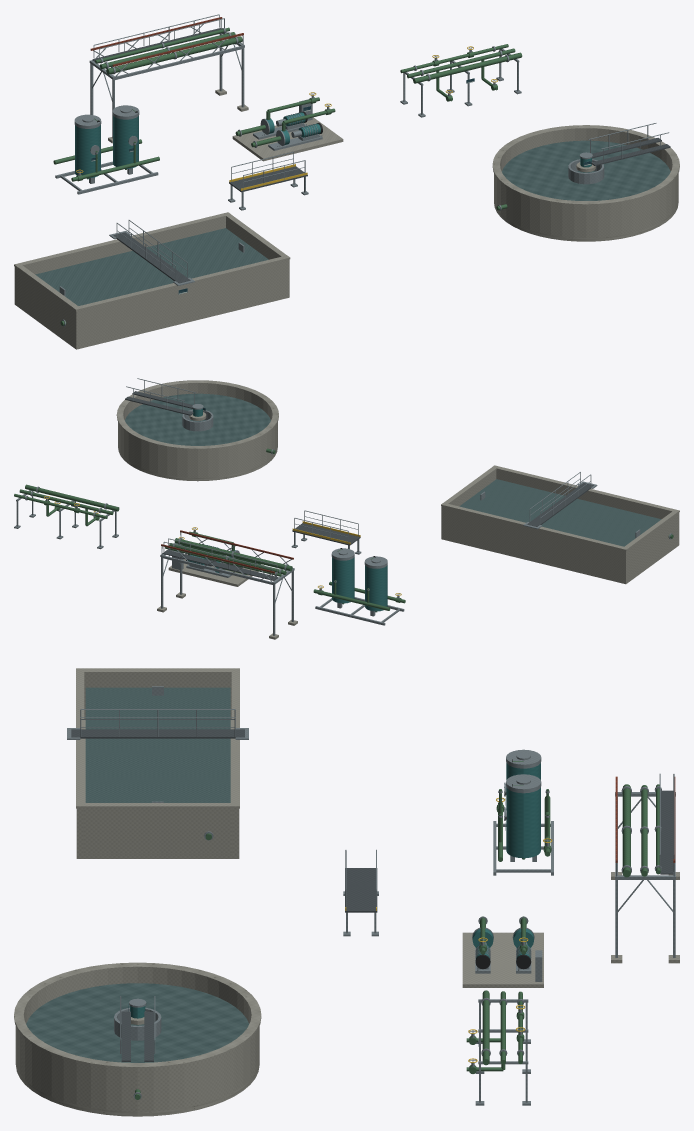
The model's file is PZ_CFW_00_WaterTreatmentPlant_ASSEMBLED_REFERENCE.glb.
The picture shows the model from 3 angles, top to bottom: view 1: azimuth 30°, elevation 25°; view 2: azimuth 150°, elevation 25°; view 3: azimuth 270°, elevation 25°; orthographic projection. The views are drawn at different scales.
Parts seen in each view (by area): view 1: CLARIFIER_ROUND_OpenTop_RingWall, BASIN_RECT_BasinWall_Front, BASIN_RECT_OPTIONAL_Static_Settling_Water, CLARIFIER_ROUND_OPTIONAL_Static_ClarifiedWater, CLARIFIER_ROUND_RimCoping, BASIN_RECT_BasinWall_Rear, BASIN_RECT_BasinWall_Left, PUMPS_DUPLEX_ConcreteMountingSlab, BASIN_RECT_FoundationSlab_16x8, FILTERS_DUAL_Filter1_PressureVesselShell, FILTERS_DUAL_Filter2_PressureVesselShell, BASIN_RECT_Coping_Front (+11 smaller); view 2: CLARIFIER_ROUND_OpenTop_RingWall, BASIN_RECT_BasinWall_Rear, BASIN_RECT_OPTIONAL_Static_Settling_Water, CLARIFIER_ROUND_OPTIONAL_Static_ClarifiedWater, CLARIFIER_ROUND_RimCoping, BASIN_RECT_BasinWall_Front, BASIN_RECT_BasinWall_Left, FILTERS_DUAL_Filter2_PressureVesselShell, FILTERS_DUAL_Filter1_PressureVesselShell, BASIN_RECT_FoundationSlab_16x8, BASIN_RECT_Coping_Rear, BASIN_RECT_Coping_Front (+10 smaller); view 3: BASIN_RECT_OPTIONAL_Static_Settling_Water, CLARIFIER_ROUND_OpenTop_RingWall, CLARIFIER_ROUND_OPTIONAL_Static_ClarifiedWater, BASIN_RECT_BasinWall_Right, CLARIFIER_ROUND_RimCoping, PUMPS_DUPLEX_ConcreteMountingSlab, FILTERS_DUAL_Filter2_PressureVesselShell, BASIN_RECT_BasinWall_Left, BASIN_RECT_Service_Crosswalk_Grating, SERVICE_WALK_WalkwayGrating, CLARIFIER_ROUND_RoundFoundation, PIPE_BRIDGE_ServiceCatwalk_Grating (+6 smaller).
Boxes of the visible parts, x1,y1,x2,y2 form: CLARIFIER_ROUND_OpenTop_RingWall: (494,130,678,237); BASIN_RECT_BasinWall_Front: (73,259,289,345); BASIN_RECT_OPTIONAL_Static_Settling_Water: (35,228,268,305); CLARIFIER_ROUND_OPTIONAL_Static_ClarifiedWater: (502,140,670,200); CLARIFIER_ROUND_RimCoping: (492,125,679,205); BASIN_RECT_BasinWall_Rear: (14,217,225,302); BASIN_RECT_BasinWall_Left: (17,268,73,343); PUMPS_DUPLEX_ConcreteMountingSlab: (232,117,343,161); BASIN_RECT_FoundationSlab_16x8: (14,294,289,349); FILTERS_DUAL_Filter1_PressureVesselShell: (75,125,100,178); FILTERS_DUAL_Filter2_PressureVesselShell: (113,115,138,168); BASIN_RECT_Coping_Front: (73,255,290,311); CLARIFIER_ROUND_OpenTop_RingWall: (118,384,277,477); BASIN_RECT_BasinWall_Rear: (441,506,628,580); BASIN_RECT_OPTIONAL_Static_Settling_Water: (459,479,660,546); CLARIFIER_ROUND_OPTIONAL_Static_ClarifiedWater: (125,393,270,445); CLARIFIER_ROUND_RimCoping: (116,380,278,450); BASIN_RECT_BasinWall_Front: (496,470,679,543); BASIN_RECT_BasinWall_Left: (628,514,676,579); FILTERS_DUAL_Filter2_PressureVesselShell: (332,557,354,603); FILTERS_DUAL_Filter1_PressureVesselShell: (365,565,387,611); BASIN_RECT_FoundationSlab_16x8: (441,536,679,584); BASIN_RECT_Coping_Rear: (441,502,628,551); BASIN_RECT_Coping_Front: (492,465,679,513); BASIN_RECT_OPTIONAL_Static_Settling_Water: (85,687,230,802); CLARIFIER_ROUND_OpenTop_RingWall: (15,969,259,1111); CLARIFIER_ROUND_OPTIONAL_Static_ClarifiedWater: (26,983,248,1062); BASIN_RECT_BasinWall_Right: (83,808,232,854); CLARIFIER_ROUND_RimCoping: (14,962,261,1069); PUMPS_DUPLEX_ConcreteMountingSlab: (462,932,543,987); FILTERS_DUAL_Filter2_PressureVesselShell: (506,787,540,858); BASIN_RECT_BasinWall_Left: (84,674,231,718); BASIN_RECT_Service_Crosswalk_Grating: (71,729,244,738); SERVICE_WALK_WalkwayGrating: (345,868,377,912); CLARIFIER_ROUND_RoundFoundation: (15,1060,259,1116); PIPE_BRIDGE_ServiceCatwalk_Grating: (660,790,673,874).
Bounding box in the file's own units: 46.91 × 5.72 × 32.79.
Materials: 10 (10 with a texture image).
